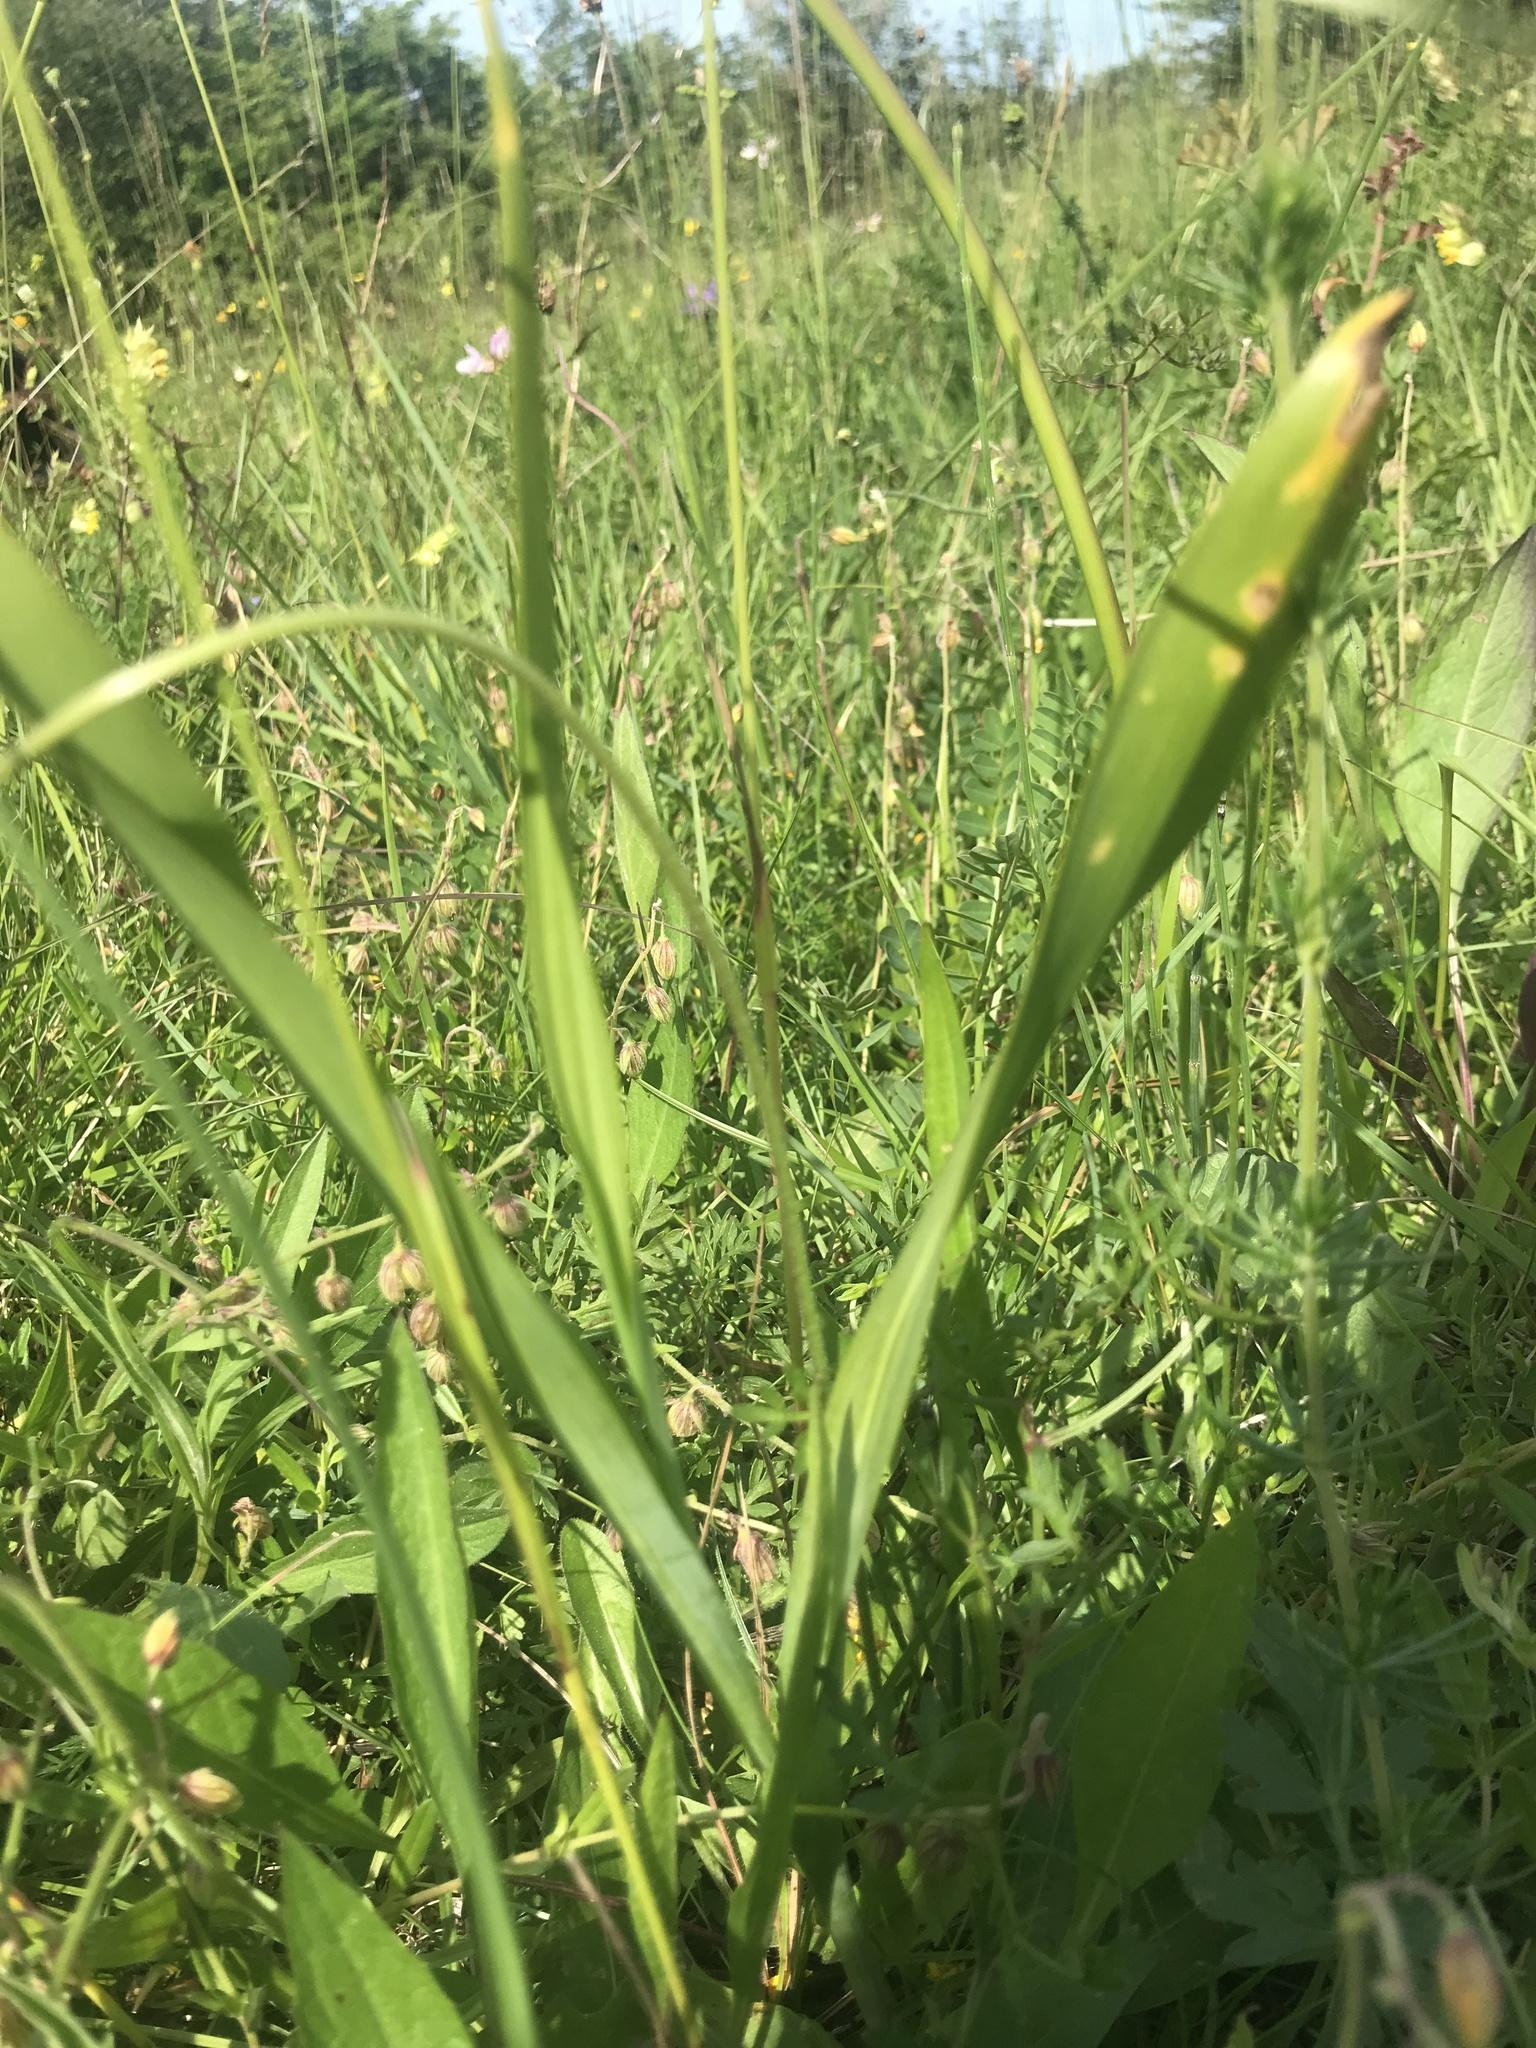Colchicum autumnale L: (19, 347, 1350, 2038)
